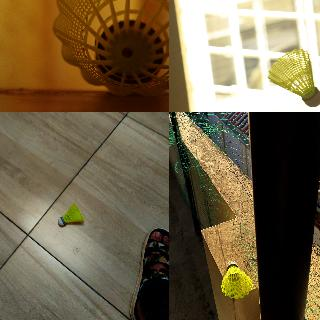shuttlecock: (53, 0, 168, 97), (268, 49, 319, 108), (220, 260, 252, 298), (56, 203, 84, 227)
